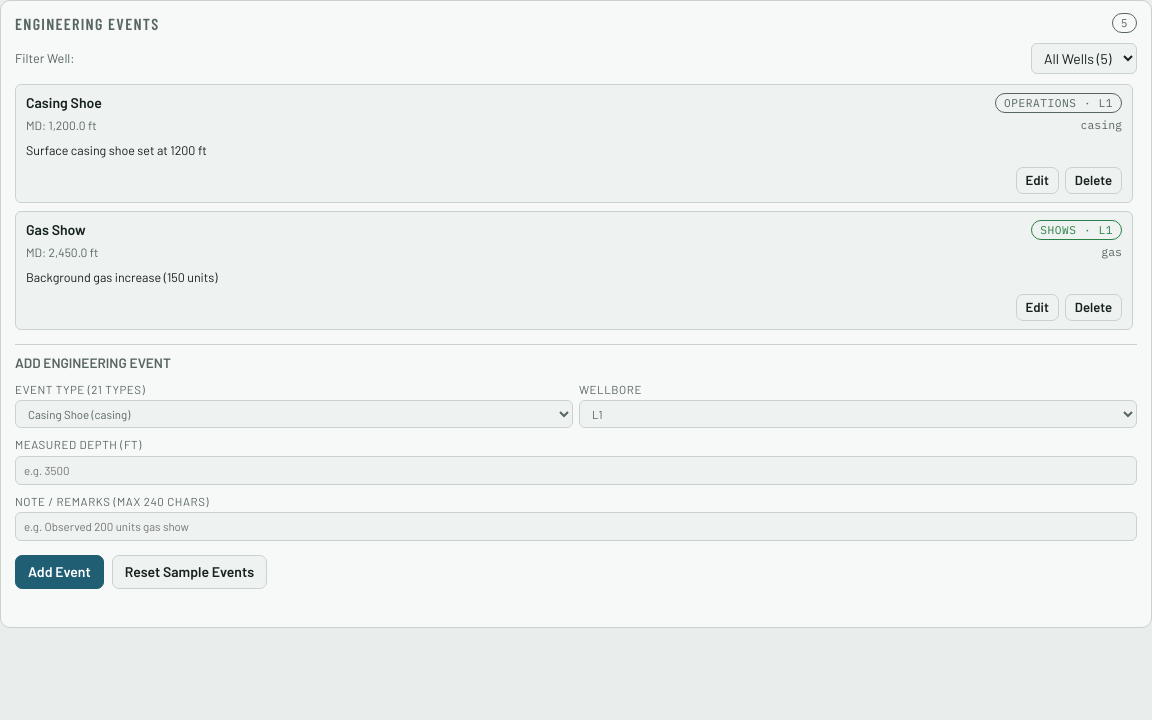
it: <EventEditor> › editing and cancelling › loads existing event into form when Edit is clicked and updates it
Click the button with aria-label "edit casing shoe" at (1037, 180), box 1016,167 -> 1059,194
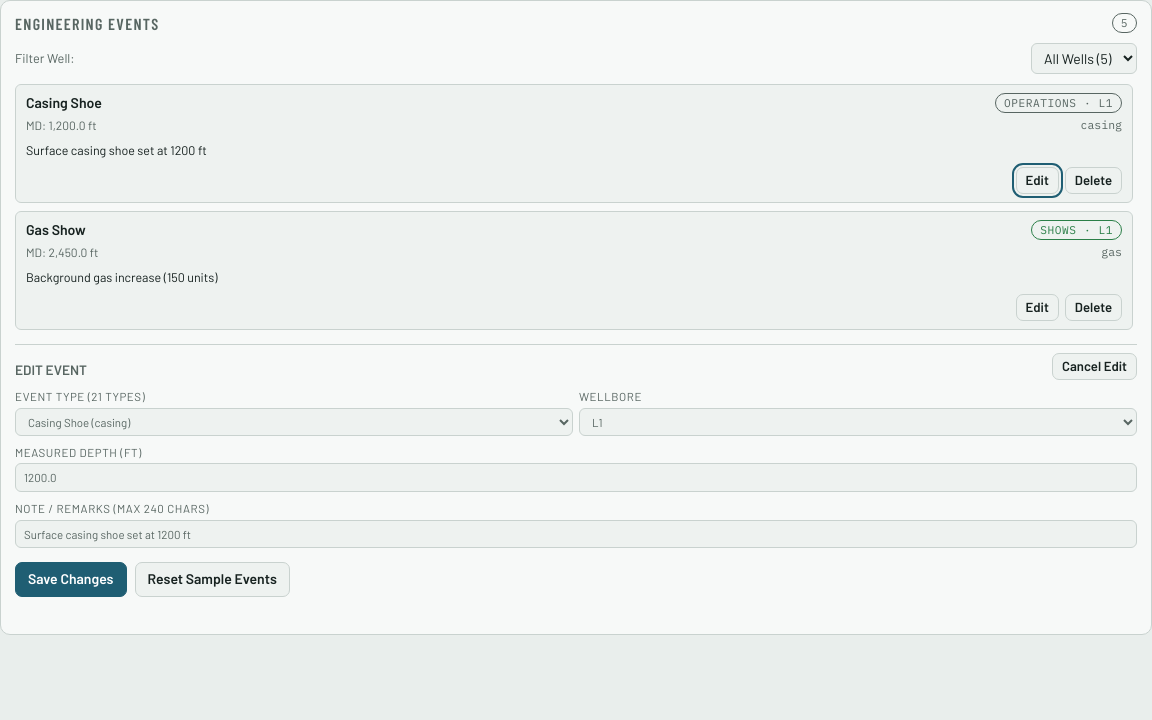
Check: the text "Edit Event" is shown, box 15,360 -> 87,380
Check: the button "Cancel Edit" is shown, box 1052,353 -> 1137,380
Check: the button "Save Changes" is shown, box 15,562 -> 126,597
Replace the text in the field named "note or description" with "Surface casing set and pressure tested to 1500 psi" at (576, 534), box 15,520 -> 1137,548
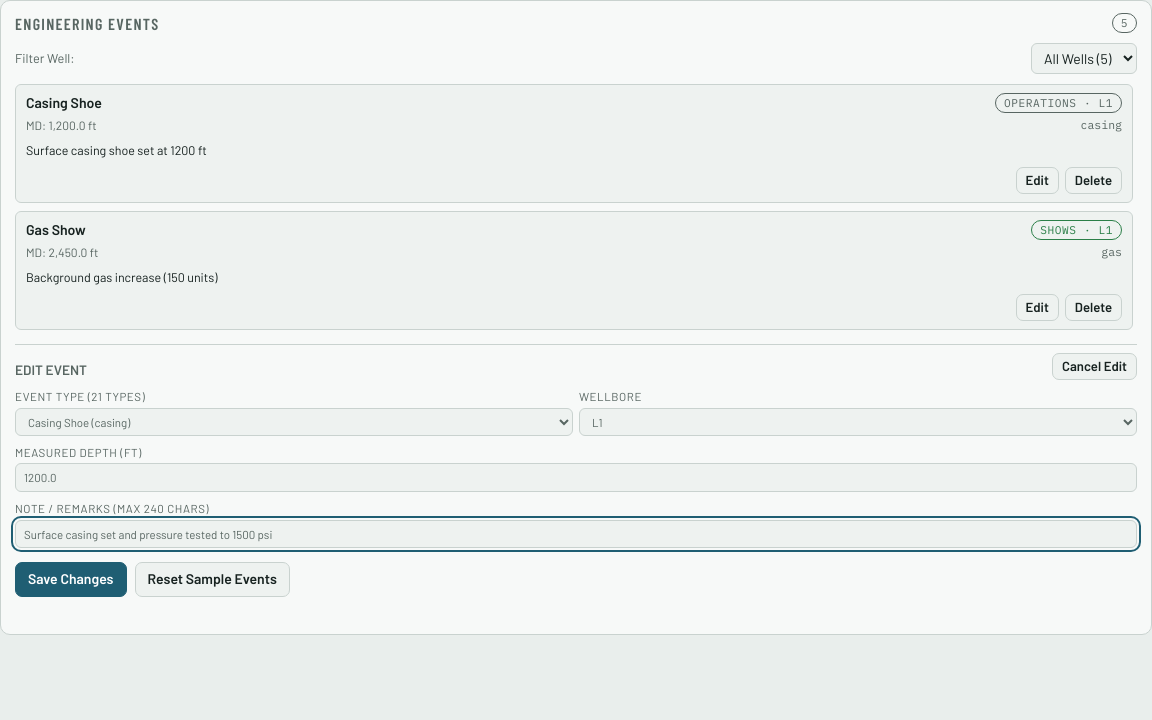
Click the button "Save Changes" at (71, 580), box 15,562 -> 126,597
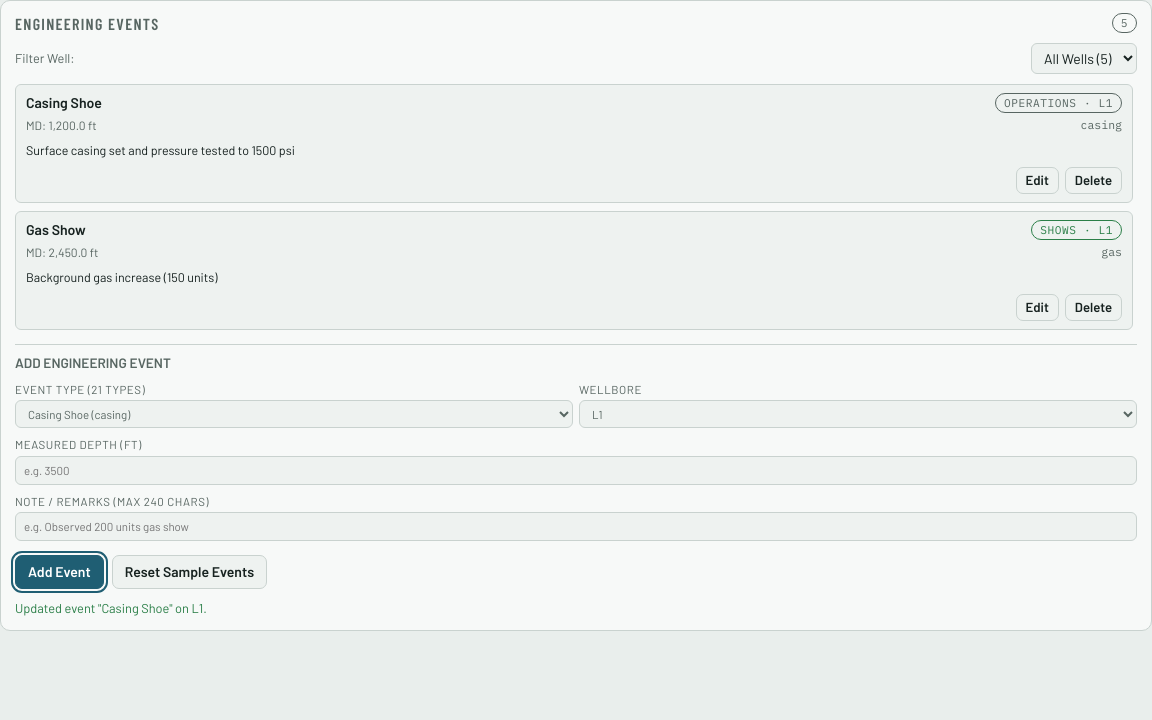
Check: the text "Updated event \"Casing Shoe\" on L1." is shown, box 15,600 -> 207,616
